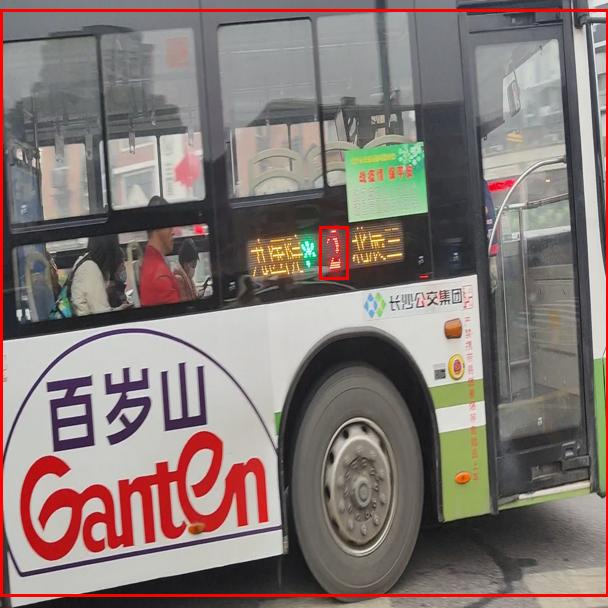bus: (0, 9, 608, 596)
screen: (319, 226, 348, 279)
